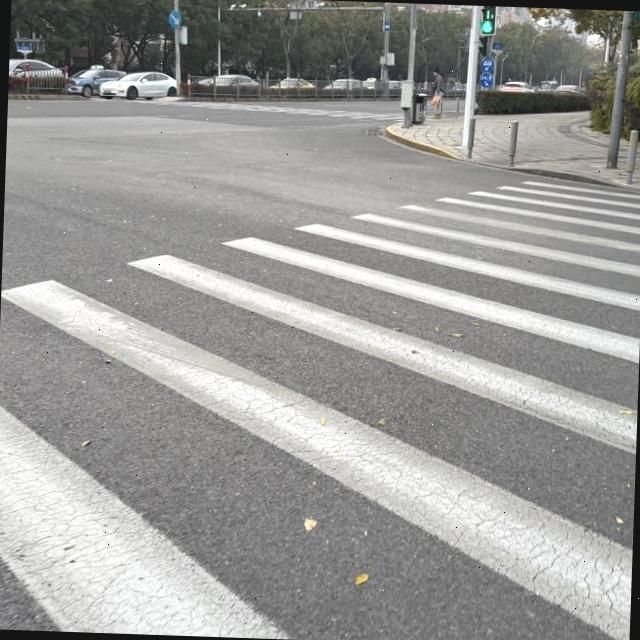curb: (476, 163, 640, 193), (384, 128, 465, 161), (176, 97, 394, 100), (8, 93, 89, 99)
